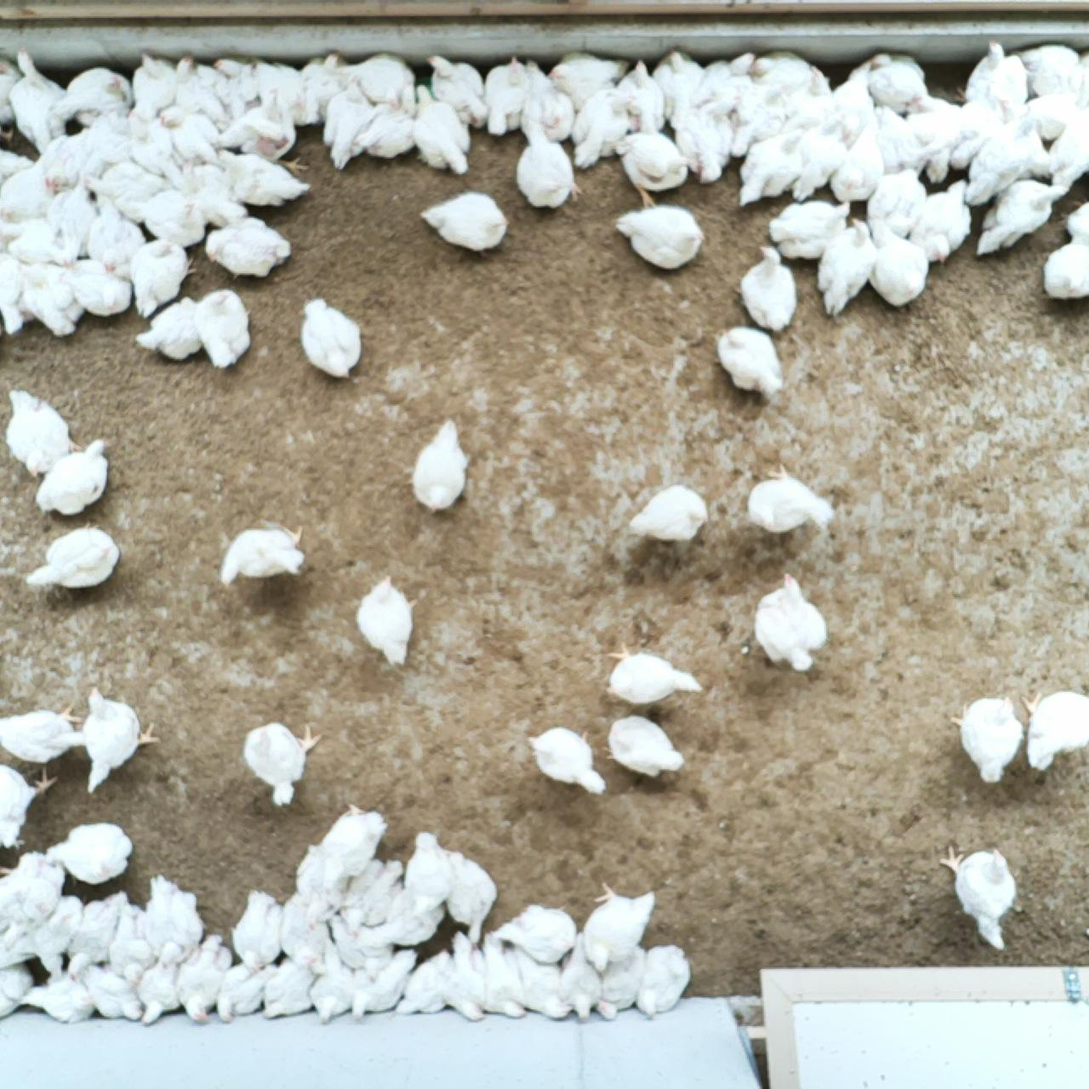chicken: (83, 686, 155, 792), (221, 89, 310, 174), (943, 844, 1014, 948), (753, 573, 828, 671), (7, 388, 85, 479), (905, 93, 987, 179), (965, 117, 1042, 205), (976, 184, 1067, 258), (43, 118, 134, 188), (245, 722, 319, 806), (617, 134, 700, 208), (14, 53, 73, 155), (607, 643, 702, 705), (614, 203, 704, 268), (30, 525, 120, 590), (582, 884, 656, 962), (420, 192, 511, 254), (36, 441, 110, 517), (956, 697, 1021, 783), (217, 147, 310, 207), (128, 236, 198, 315), (869, 217, 929, 308), (748, 465, 829, 532), (175, 932, 232, 1026), (907, 181, 970, 266), (73, 889, 132, 979), (686, 50, 754, 128), (739, 126, 805, 205), (1025, 691, 1089, 772), (446, 849, 500, 945), (321, 808, 389, 884), (143, 877, 201, 966), (529, 727, 607, 793), (358, 578, 417, 665), (413, 87, 474, 171), (281, 889, 342, 973), (90, 159, 171, 222), (0, 763, 60, 848), (412, 420, 468, 511), (493, 904, 579, 963), (508, 944, 573, 1022), (768, 200, 851, 261), (47, 827, 137, 883), (19, 262, 87, 336), (0, 705, 88, 762), (59, 254, 136, 319), (220, 527, 309, 583), (302, 296, 362, 379), (868, 109, 931, 188), (170, 167, 257, 224), (423, 54, 489, 129), (174, 56, 243, 127), (818, 218, 869, 314), (962, 42, 1028, 116), (125, 103, 190, 178), (21, 899, 85, 975), (477, 935, 533, 1021), (606, 716, 683, 778), (213, 221, 293, 280), (743, 248, 799, 332), (1014, 88, 1089, 150), (343, 860, 405, 935), (516, 138, 584, 206), (718, 326, 783, 396), (633, 483, 710, 542), (62, 70, 140, 128), (154, 104, 228, 165), (791, 124, 846, 206), (325, 85, 380, 167), (49, 177, 99, 267), (675, 111, 735, 185), (350, 951, 417, 1017), (375, 886, 445, 949), (589, 945, 646, 1021), (195, 289, 251, 366), (252, 60, 316, 127), (1001, 101, 1055, 180), (549, 53, 628, 107), (827, 132, 887, 203), (325, 915, 394, 976), (865, 170, 921, 245), (483, 57, 539, 132), (574, 87, 629, 163), (825, 65, 877, 145), (135, 299, 204, 359), (233, 889, 284, 970), (0, 161, 65, 224), (863, 50, 934, 107), (81, 962, 148, 1022), (1042, 117, 1089, 202), (720, 85, 773, 160), (345, 55, 420, 108), (636, 947, 691, 1018), (216, 58, 277, 122), (768, 89, 846, 139), (129, 55, 194, 115), (261, 953, 321, 1018), (297, 55, 351, 127), (403, 831, 451, 912), (750, 47, 832, 94), (655, 51, 714, 116), (24, 975, 99, 1026), (135, 949, 185, 1025), (396, 950, 456, 1013), (446, 932, 488, 1022), (92, 200, 143, 274), (561, 932, 602, 1023), (216, 961, 276, 1023), (620, 63, 670, 137), (525, 55, 569, 139), (300, 849, 348, 926), (147, 190, 206, 252), (0, 851, 58, 914), (359, 102, 424, 157), (1025, 42, 1089, 96), (113, 902, 156, 981), (0, 212, 64, 265), (308, 960, 353, 1026), (1038, 242, 1089, 298), (0, 251, 32, 338), (0, 47, 24, 144), (0, 911, 37, 965), (0, 965, 33, 1023), (0, 145, 35, 185), (1063, 201, 1089, 243)
